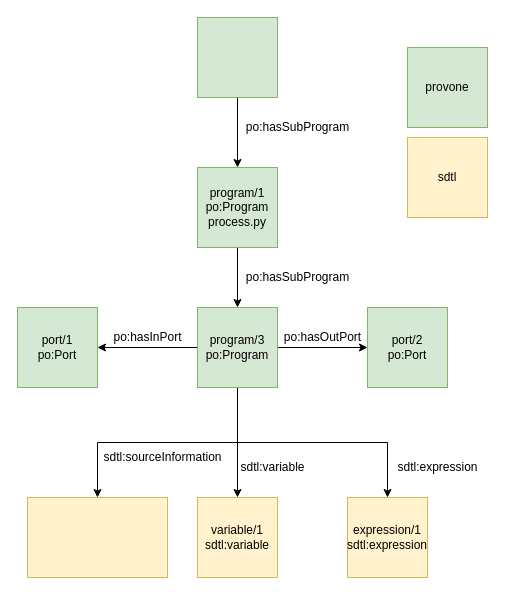
The diagram is 505 pixels wide and 595 high, and some of its shapes have lost their labels. The centre of each missing label's shape, as x and y in pixels:
"sourceInformation/1 sdtl:sourceInformation" belongs at (97,537).
"workflow/1 po:Workflow" belongs at (237,57).
